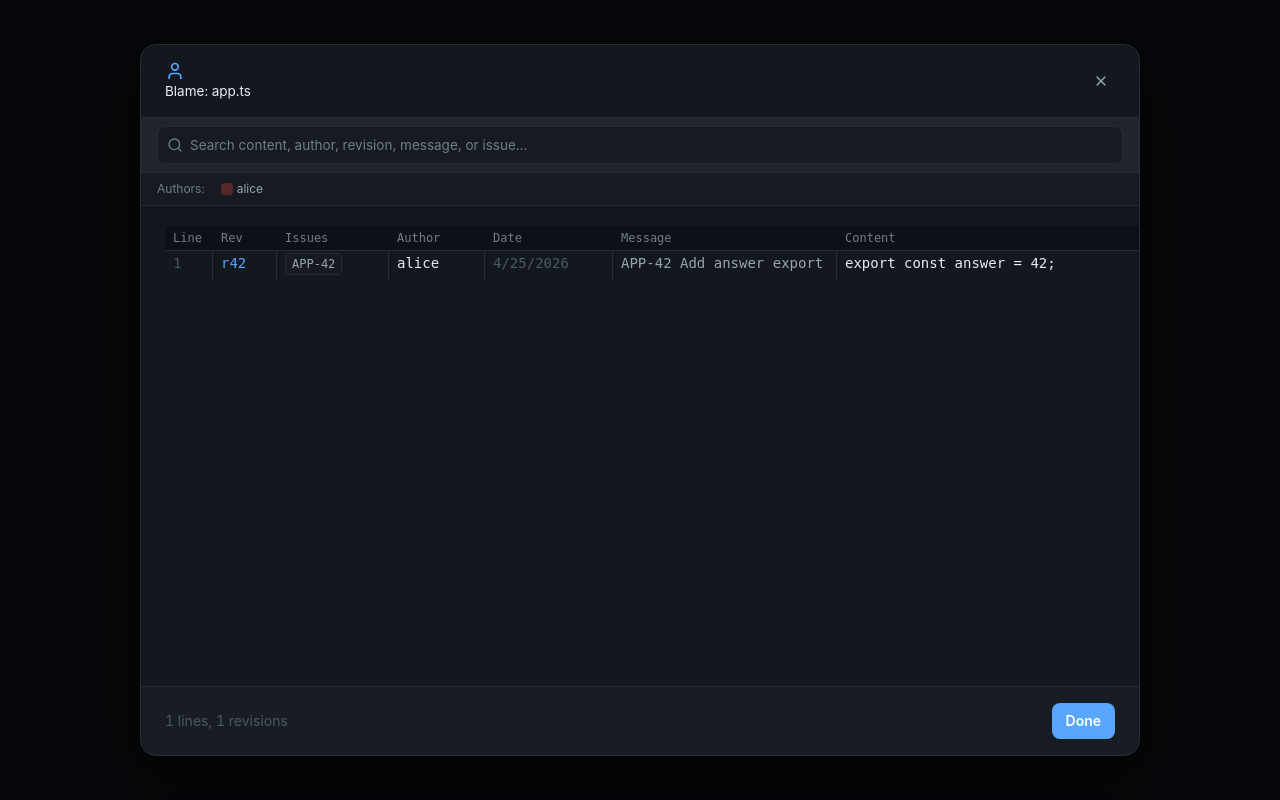
BlameViewer › filters blame lines by revision log message text
The image size is (1280, 800).
Expected: the text "APP-42 Add answer export" is shown, [613,251,837,281]
Type "answer export" into the field with placeholder "Search content, author, revision, message, or issue…" at (640, 145), box [157,126,1123,164]
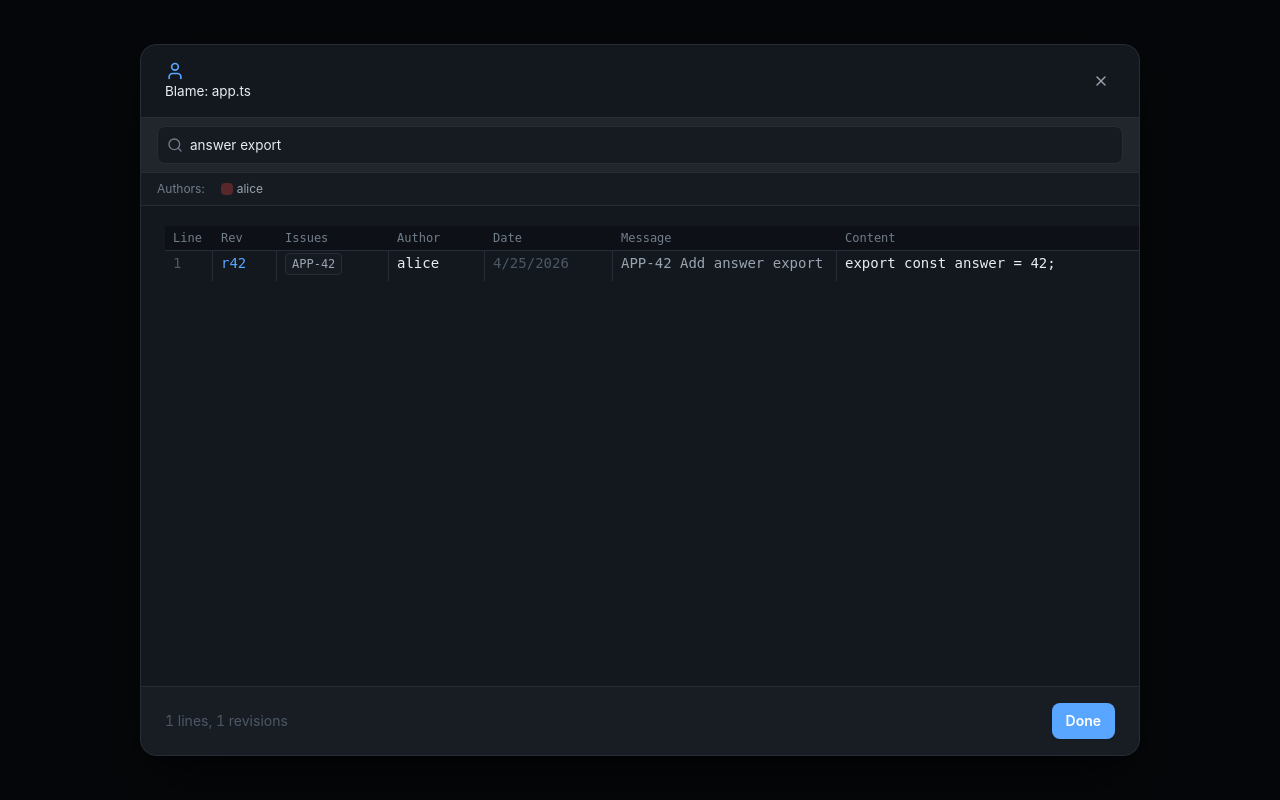
Expected: the text "export const answer = 42;" is shown, [845,255,1056,271]
Replace the text in the field with placeholder "Search content, author, revision, message, or issue…" with "unrelated text" at (640, 145), box [157,126,1123,164]
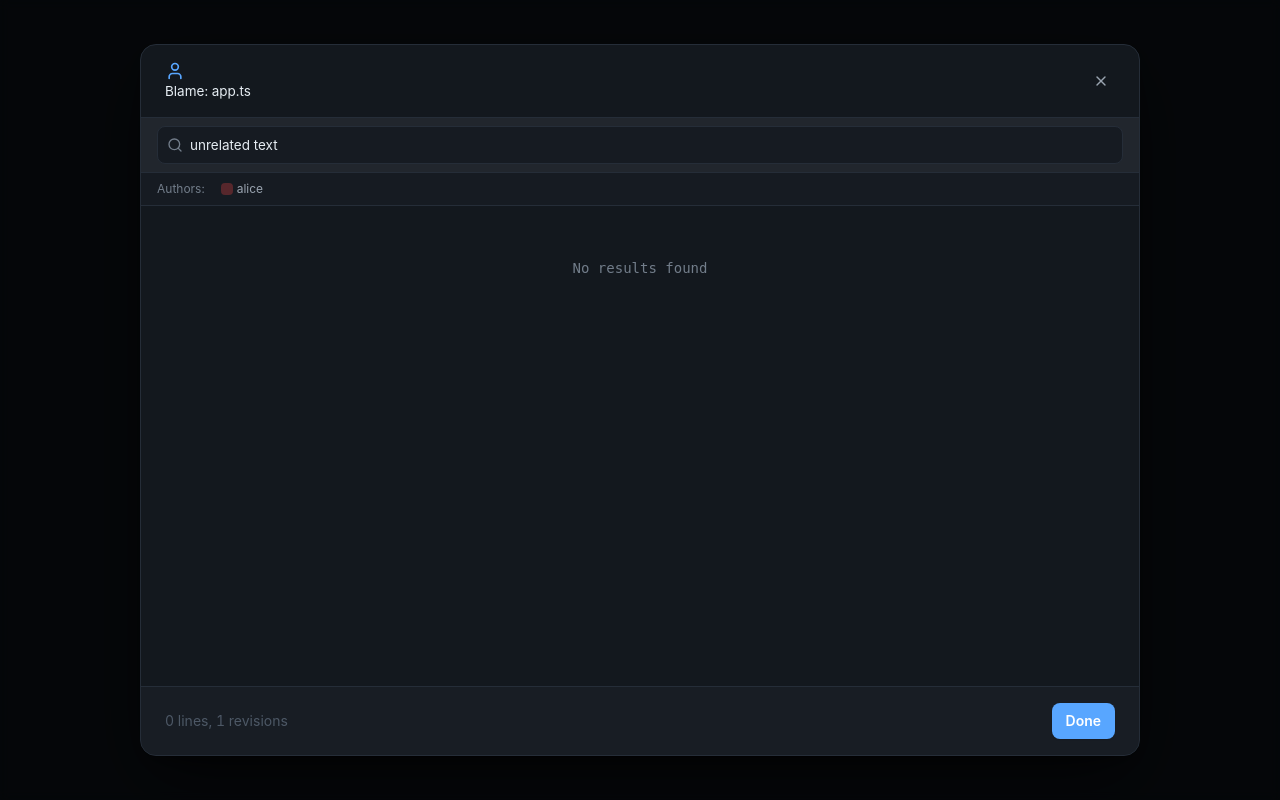
Expected: the text "No results found" is shown, [573,260,708,276]
